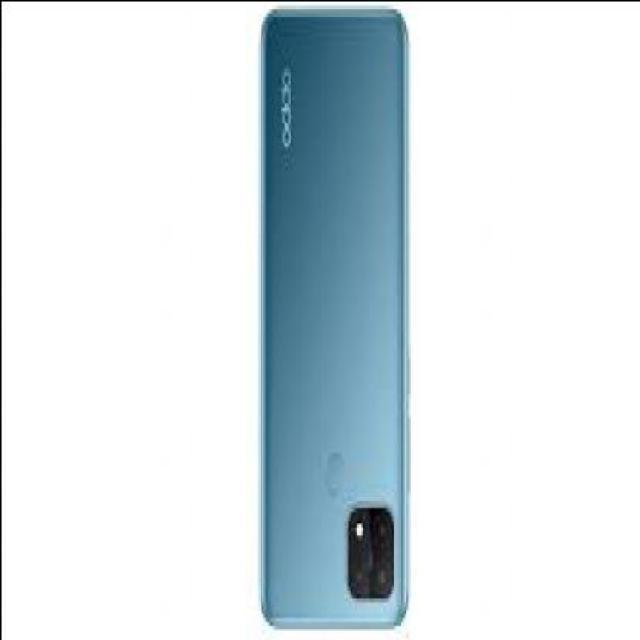phone: (257, 8, 408, 624)
